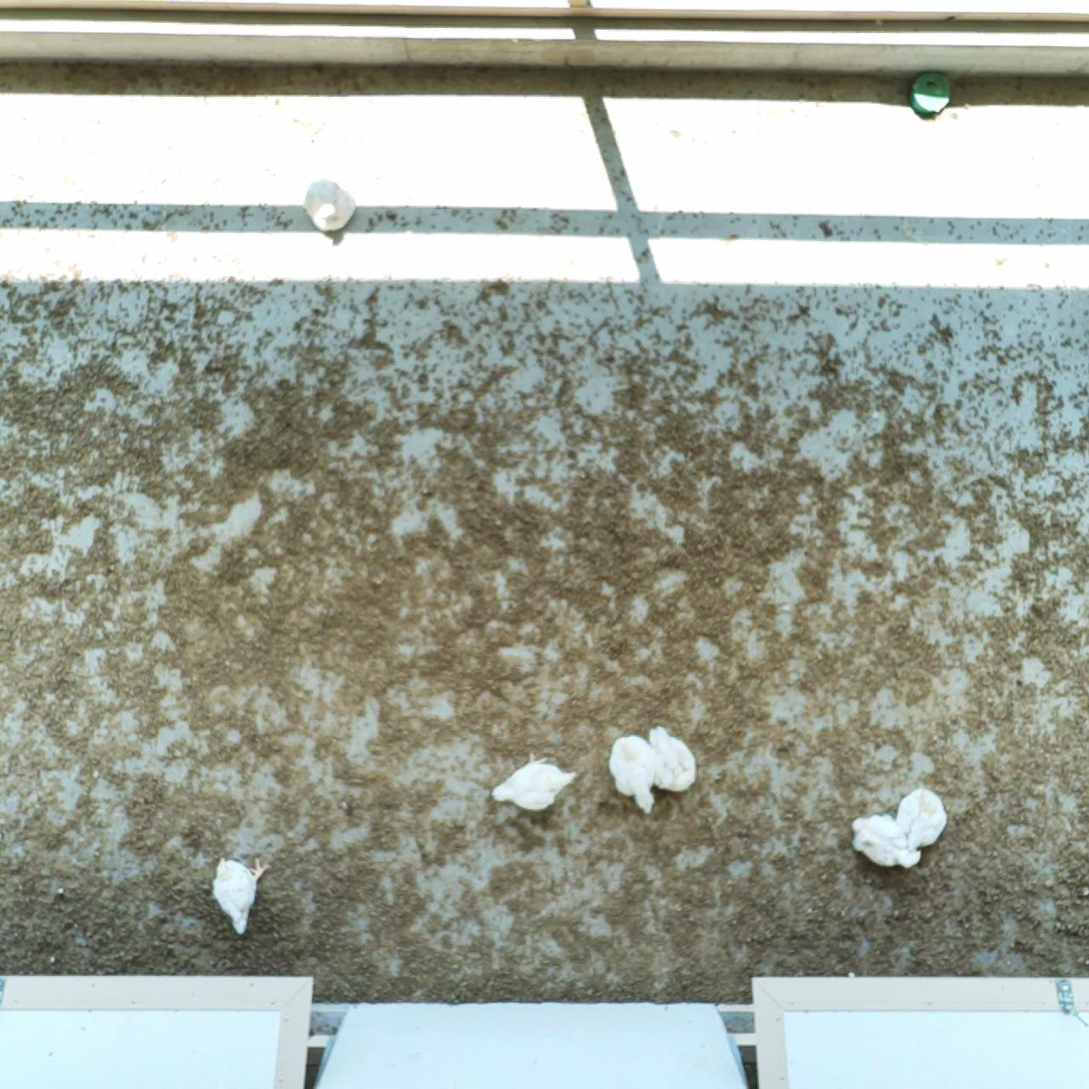chicken: (489, 748, 580, 812), (205, 852, 268, 937), (608, 728, 663, 813), (849, 808, 922, 868), (298, 170, 357, 241), (645, 724, 701, 796), (894, 782, 949, 848)
